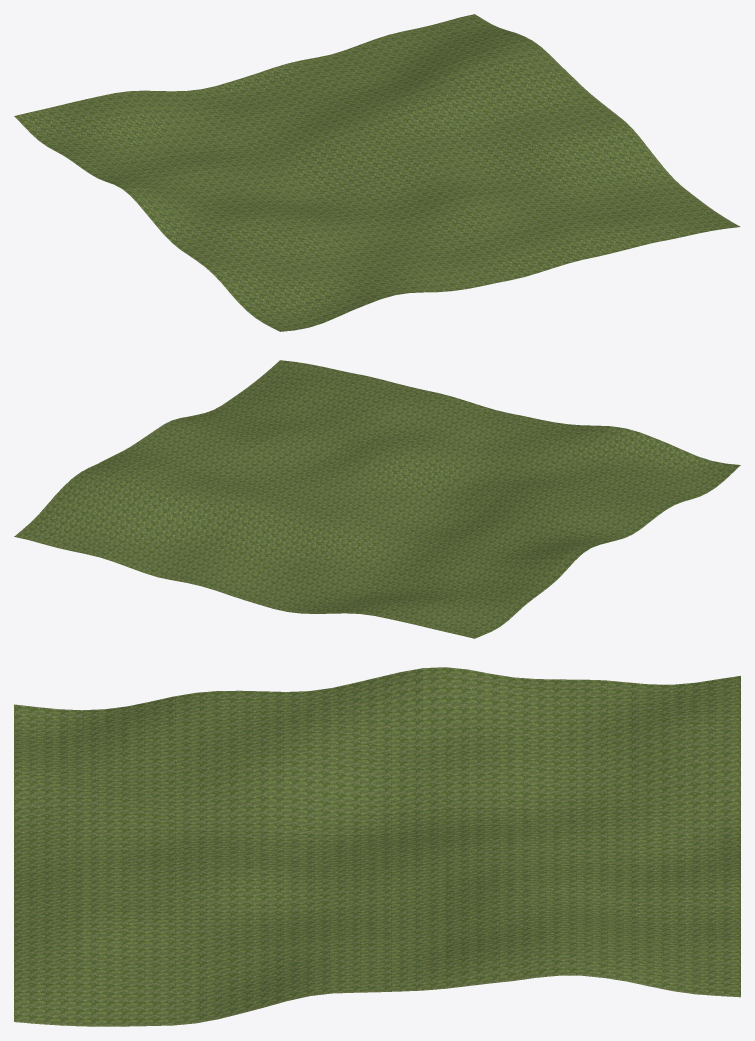
Rendered from ground.glb.
3 views of the same model, one above another, from view 1: azimuth 30°, elevation 25°; view 2: azimuth 150°, elevation 25°; view 3: azimuth 270°, elevation 25° (orthographic). The views are drawn at different scales.
Parts seen in each view (by area): view 1: Plane; view 2: Plane; view 3: Plane.
Part boxes in pixels (x1,y1,x2,y2): Plane: (14,14,740,331); Plane: (14,360,740,638); Plane: (14,667,740,1026).
Size of the model in its own units: 774 by 63.73 by 774.
1 material, 1 textured.
